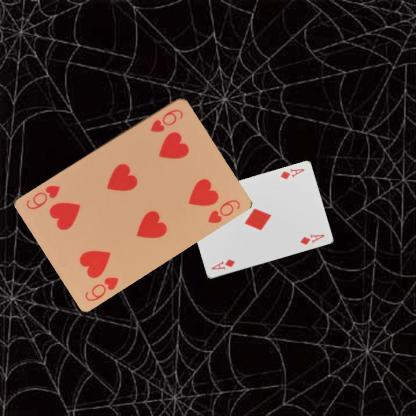6h: (82, 274, 120, 302), (147, 106, 185, 133)
Ad: (277, 166, 305, 181), (209, 257, 236, 271)
